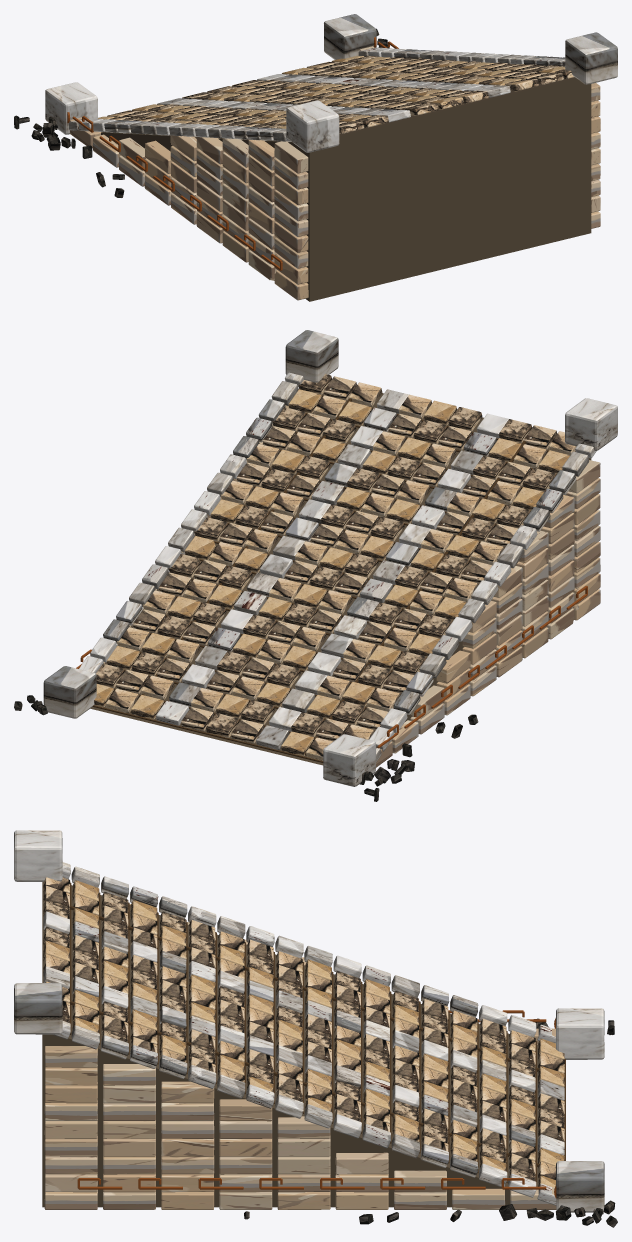
The model's file is ramp_phalanx_6m_LOD0.glb.
The picture shows the model from 3 angles, top to bottom: view 1: azimuth 30°, elevation 25°; view 2: azimuth 150°, elevation 25°; view 3: azimuth 270°, elevation 25°; orthographic projection. The views are drawn at different scales.
Visible parts, largest first — view 1: RampMortarCore, RampTopPier, RampTopPier.001, RampFootPier.001, RampFootPier, RampSideAshlar.041, RampSideAshlar.006, RampSideAshlar.032, RampSideAshlar.038, RampSideAshlar.035, RampSideAshlar.040, RampSideAshlar.036 (+29 smaller); view 2: RampMortarCore, RampFootPier.001, RampTopPier.001, RampTopPier, RampFootPier, RampSideAshlar.006; view 3: RampMortarCore, RampTopPier.001, RampTopPier, RampFootPier, RampFootPier.001, RampSideAshlar.048, RampSideAshlar.083, RampSideAshlar.074, RampSideAshlar.043, RampSideAshlar.066, RampSideAshlar.045, RampSideAshlar.059 (+35 smaller).
Part boxes in pixels (bbox=[...]): RampMortarCore: bbox=[101, 77, 591, 301]; RampTopPier: bbox=[286, 100, 339, 152]; RampTopPier.001: bbox=[565, 32, 617, 84]; RampFootPier.001: bbox=[324, 14, 376, 59]; RampFootPier: bbox=[45, 82, 97, 134]; RampSideAshlar.041: bbox=[274, 141, 308, 173]; RampSideAshlar.006: bbox=[145, 140, 172, 173]; RampSideAshlar.032: bbox=[248, 139, 275, 170]; RampSideAshlar.038: bbox=[274, 190, 308, 221]; RampSideAshlar.035: bbox=[274, 237, 308, 268]; RampSideAshlar.040: bbox=[274, 158, 308, 189]; RampSideAshlar.036: bbox=[274, 221, 308, 252]; RampMortarCore: bbox=[90, 392, 591, 765]; RampFootPier.001: bbox=[43, 666, 96, 718]; RampTopPier.001: bbox=[285, 330, 338, 382]; RampTopPier: bbox=[565, 398, 617, 450]; RampFootPier: bbox=[323, 734, 375, 786]; RampSideAshlar.006: bbox=[436, 650, 470, 683]; RampMortarCore: bbox=[42, 882, 538, 1207]; RampTopPier.001: bbox=[14, 983, 62, 1034]; RampTopPier: bbox=[14, 830, 62, 881]; RampFootPier: bbox=[556, 1008, 604, 1059]; RampFootPier.001: bbox=[556, 1161, 604, 1212]; RampSideAshlar.048: bbox=[335, 1152, 388, 1174]; RampSideAshlar.083: bbox=[44, 1046, 97, 1067]; RampSideAshlar.074: bbox=[103, 1064, 155, 1085]; RampSideAshlar.043: bbox=[452, 1188, 505, 1209]; RampSideAshlar.066: bbox=[161, 1081, 214, 1103]; RampSideAshlar.045: bbox=[394, 1170, 446, 1192]; RampSideAshlar.059: bbox=[219, 1099, 272, 1121].
Size of the model in its own units: 7.24 by 3.69 by 9.23.
Materials: 7 (4 with a texture image).
